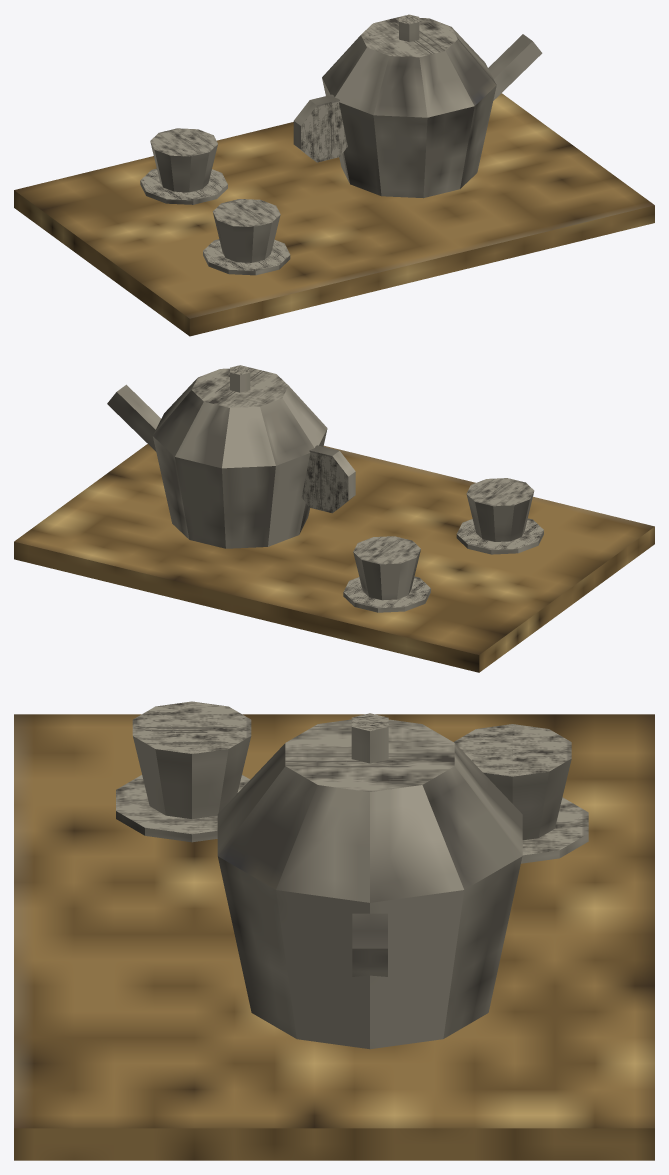
The model's file is Atmos_Tea_Set.fbx.
3 renders of one model, top to bottom at view 1: azimuth 30°, elevation 25°; view 2: azimuth 150°, elevation 25°; view 3: azimuth 270°, elevation 25°, orthographic. The views are drawn at different scales.
Visible parts, largest first — view 1: Atmos_Tea_Set; view 2: Atmos_Tea_Set; view 3: Atmos_Tea_Set.
Boxes of the visible parts, <box> form: Atmos_Tea_Set: <box>14,14,654,336</box>; Atmos_Tea_Set: <box>14,365,654,672</box>; Atmos_Tea_Set: <box>14,701,654,1160</box>.
Size of the model in its own units: 55 by 19 by 36.
